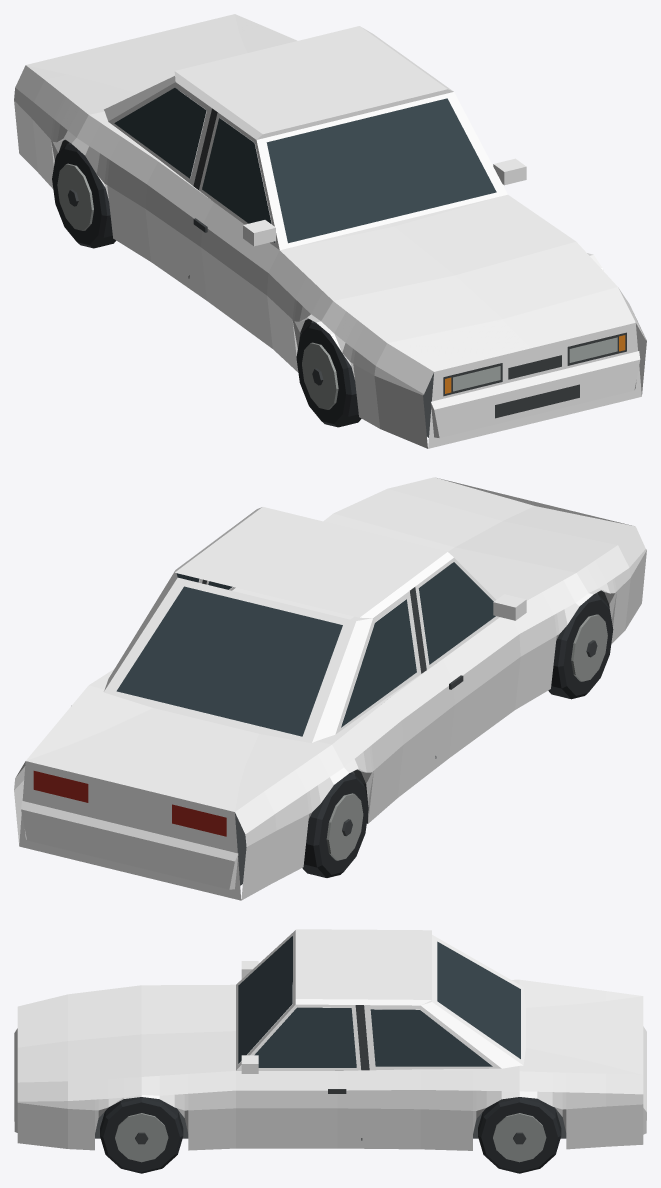
File: arvelle_hatchet_98.glb
3 renders of one model, top to bottom at view 1: azimuth 30°, elevation 25°; view 2: azimuth 150°, elevation 25°; view 3: azimuth 270°, elevation 25°, orthographic. The views are drawn at different scales.
Visible parts, largest first — view 1: arvelle_hatchet_98; view 2: arvelle_hatchet_98; view 3: arvelle_hatchet_98.
Part boxes in pixels (x1,y1,x2,y2): arvelle_hatchet_98: (14,14,646,448); arvelle_hatchet_98: (14,477,646,900); arvelle_hatchet_98: (14,929,646,1173).
Size of the model in its own units: 1.75 by 1.25 by 4.47.
Materials: 8 (1 with a texture image).
